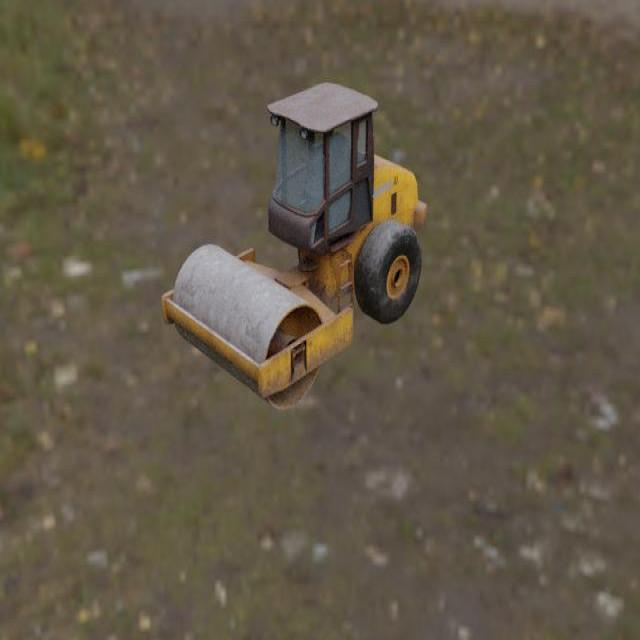Roller: (161, 83, 427, 409)
